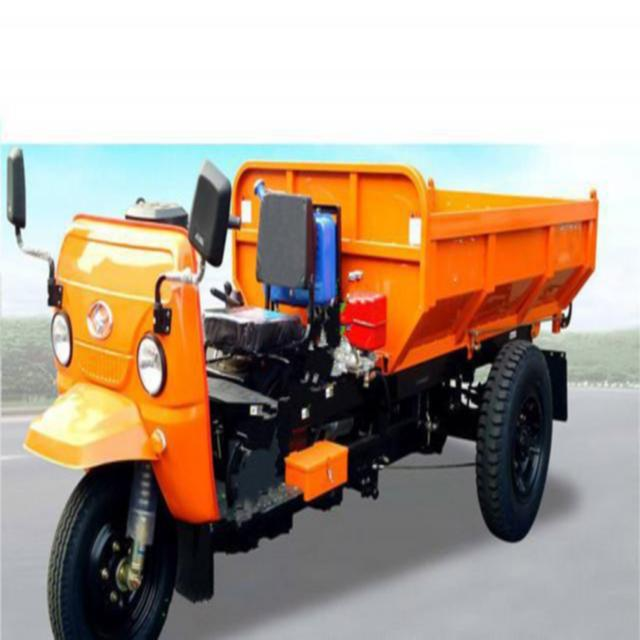tricycle: (5, 142, 599, 638)
